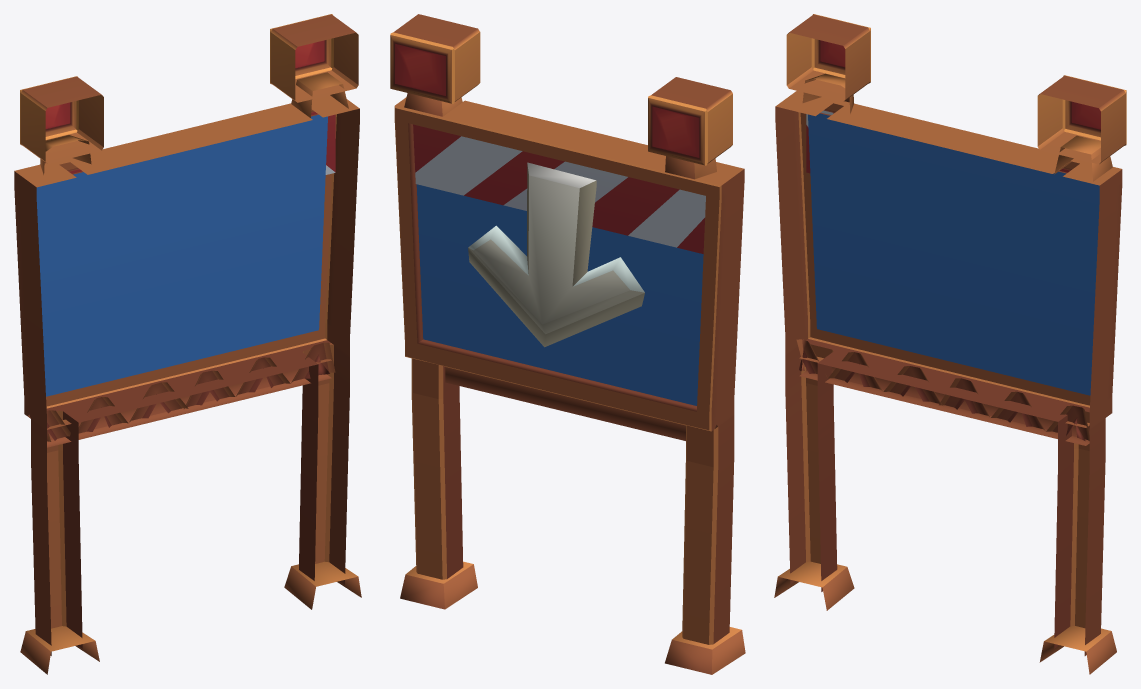
The model's file is barrier_1.fbx.
The picture shows the model from 3 angles, left to right: view 1: azimuth 30°, elevation 25°; view 2: azimuth 150°, elevation 25°; view 3: azimuth 330°, elevation 25°; orthographic projection.
Visible parts, largest first — view 1: polySurface247; view 2: polySurface247; view 3: polySurface247.
Part boxes in pixels (<box>): polySurface247: <box>14,14,361,674</box>; polySurface247: <box>390,14,745,674</box>; polySurface247: <box>774,14,1126,674</box>.
Bounding box in the file's own units: 79.46 × 132 × 14.89.
